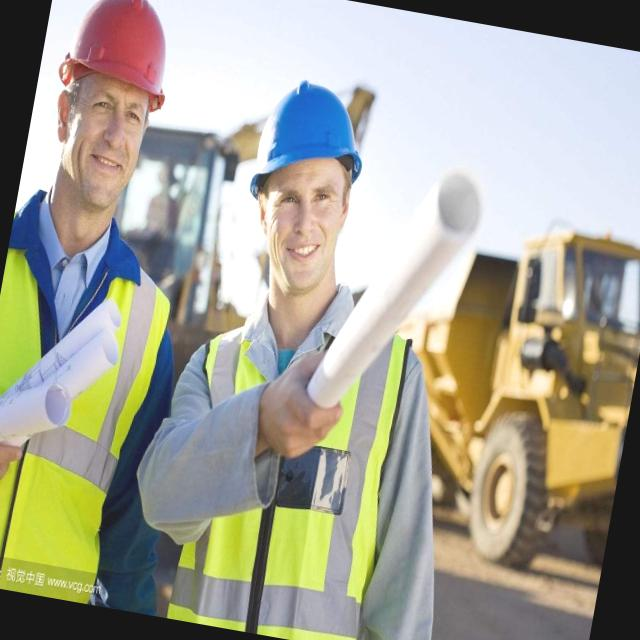helmet: (240, 69, 380, 220), (52, 0, 187, 108)
vest: (154, 272, 426, 640), (0, 193, 188, 587)
